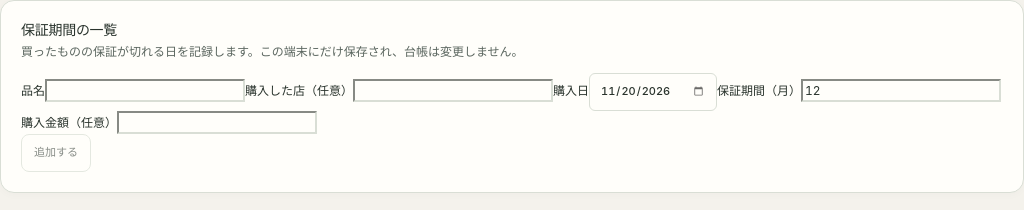
WarrantyPanel › does not allow saving without a name, or with a bad period or amount
The image size is (1024, 210).
Expected: the button "追加する" is disabled, x1=21 y1=134 x2=91 y2=172
Type "x" into the field labelled "品名" at (145,91), box x1=45 y1=79 x2=245 y2=102
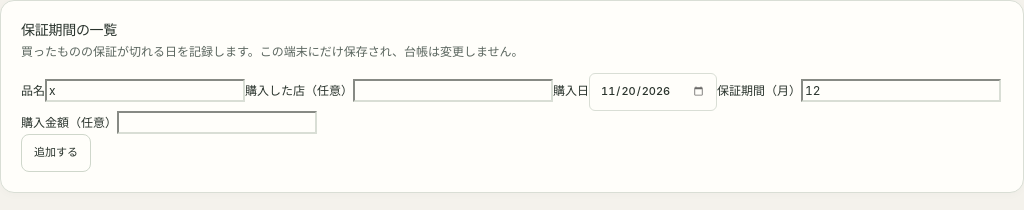
Result: the button "追加する" is enabled at x1=21 y1=134 x2=91 y2=172
Replace the text in the field labelled "保証期間（月）" with "0" at (901,91), box x1=801 y1=79 x2=1001 y2=102
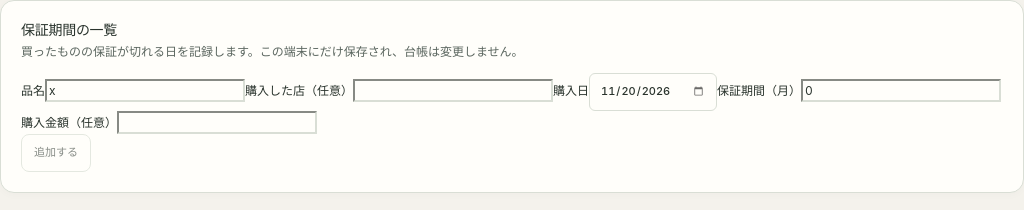
Result: the button "追加する" is disabled at x1=21 y1=134 x2=91 y2=172
Replace the text in the field labelled "保証期間（月）" with "121" at (901,91), box x1=801 y1=79 x2=1001 y2=102
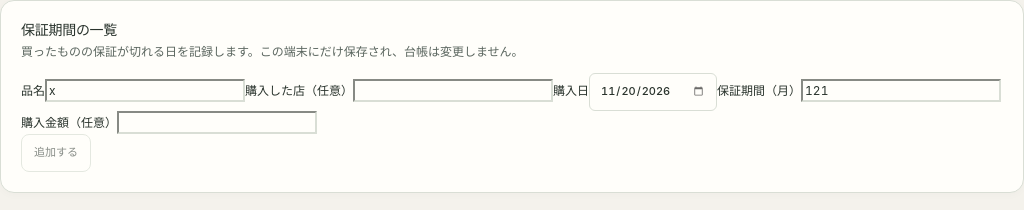
Result: the button "追加する" is disabled at x1=21 y1=134 x2=91 y2=172
Replace the text in the field labelled "保証期間（月）" with "12" at (901,91), box x1=801 y1=79 x2=1001 y2=102
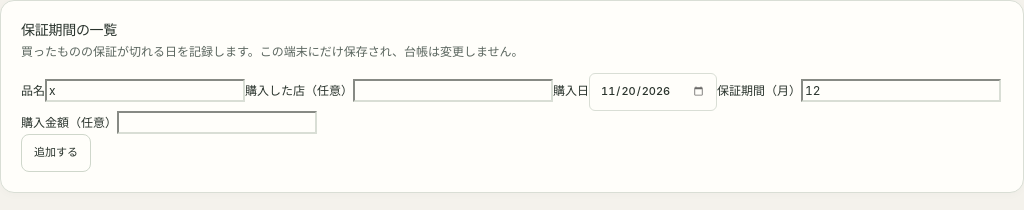
Type "abc" into the field labelled "購入金額（任意）" at (217,122), box x1=117 y1=111 x2=317 y2=134
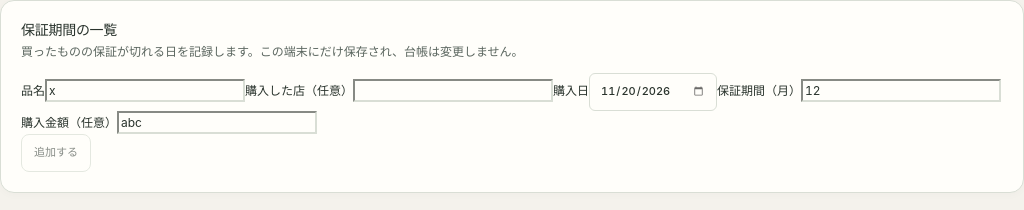
Result: the button "追加する" is disabled at x1=21 y1=134 x2=91 y2=172
